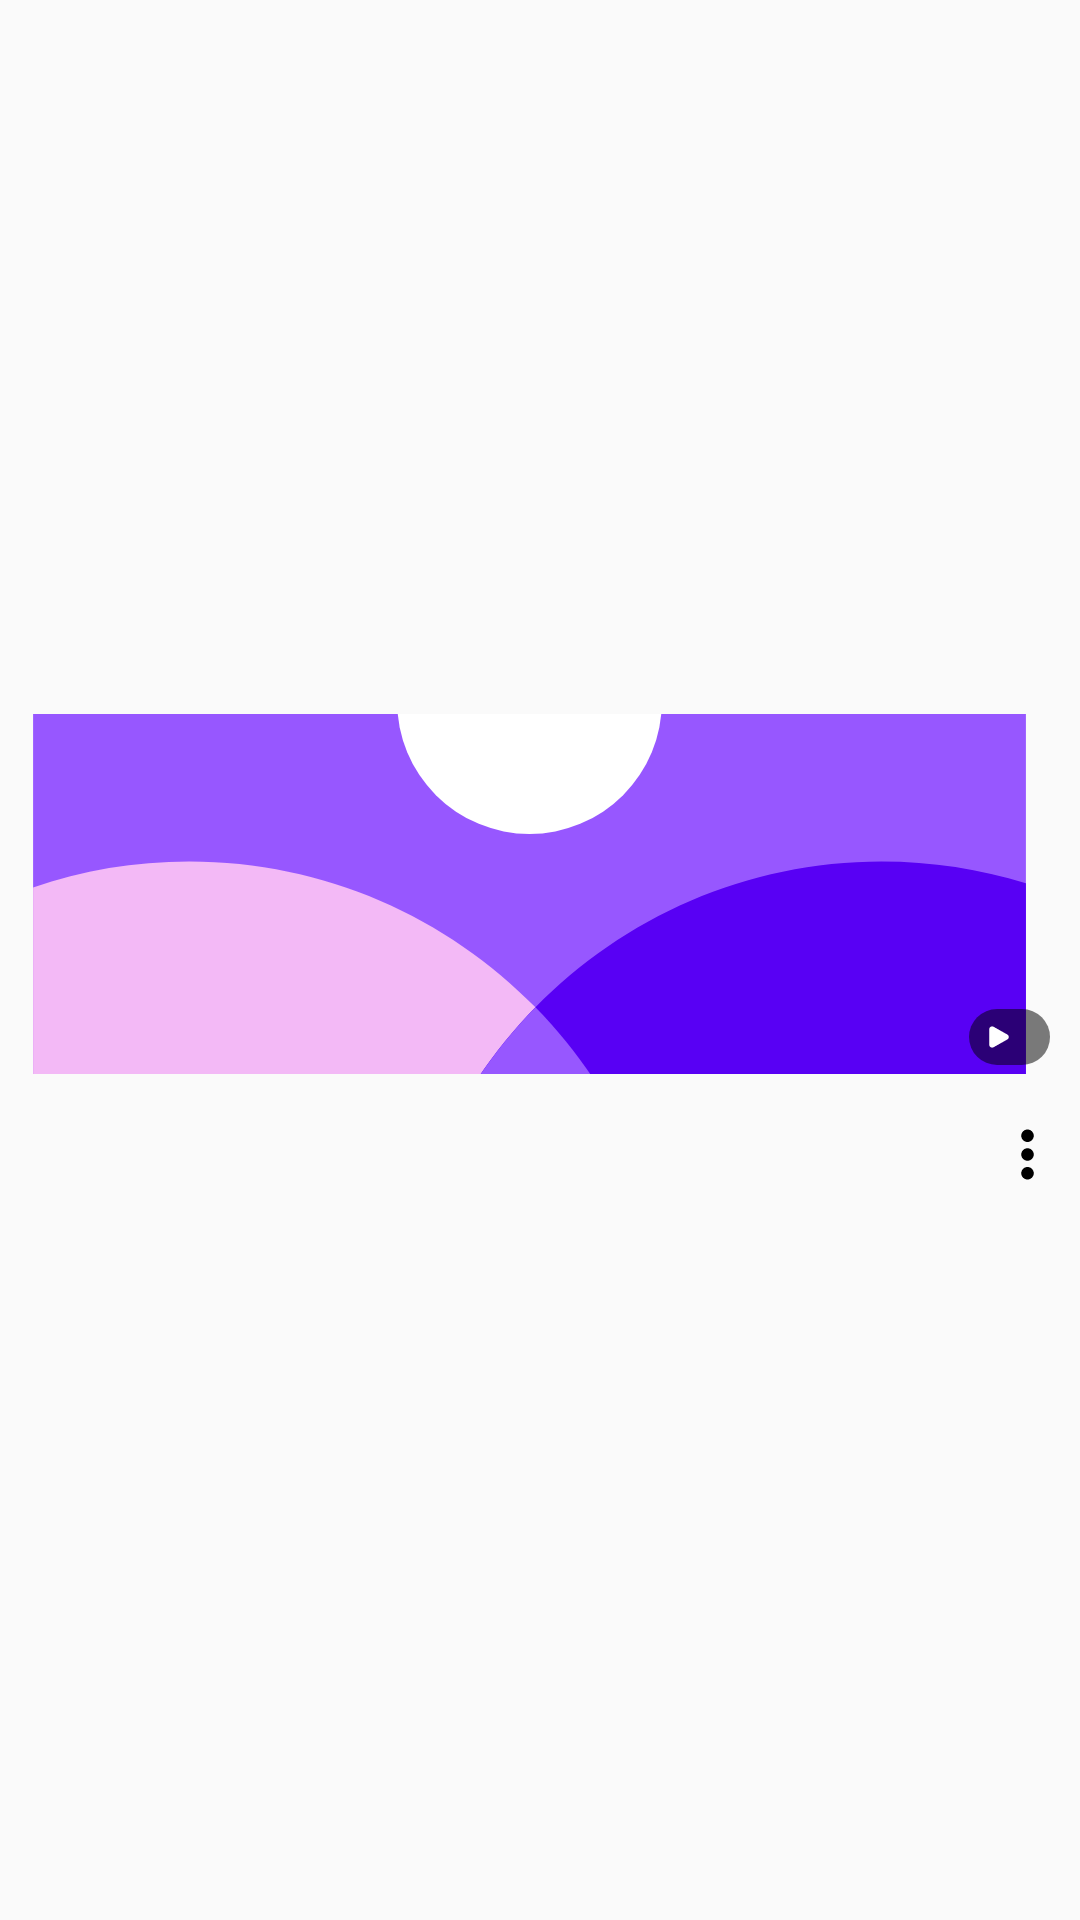

Icon click points for this 1080px x 1920px phone screenshot, format point (x, y):
grid more image: point (1027, 1154)
